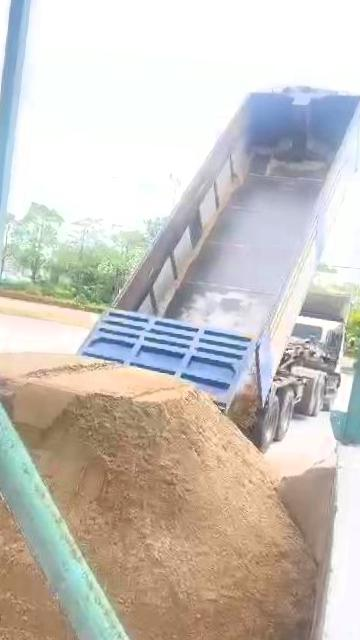sand: (0, 353, 315, 640), (0, 422, 93, 640), (278, 455, 335, 565)
